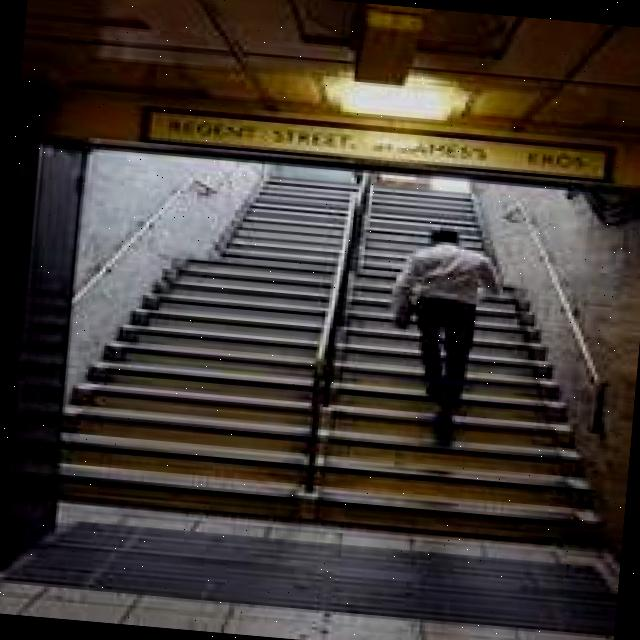stairs: (31, 148, 628, 530)
